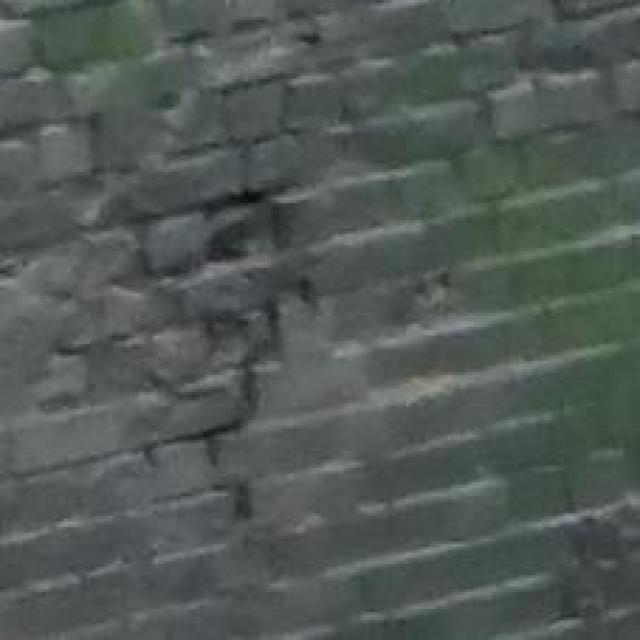Crack: (93, 123, 365, 627)
